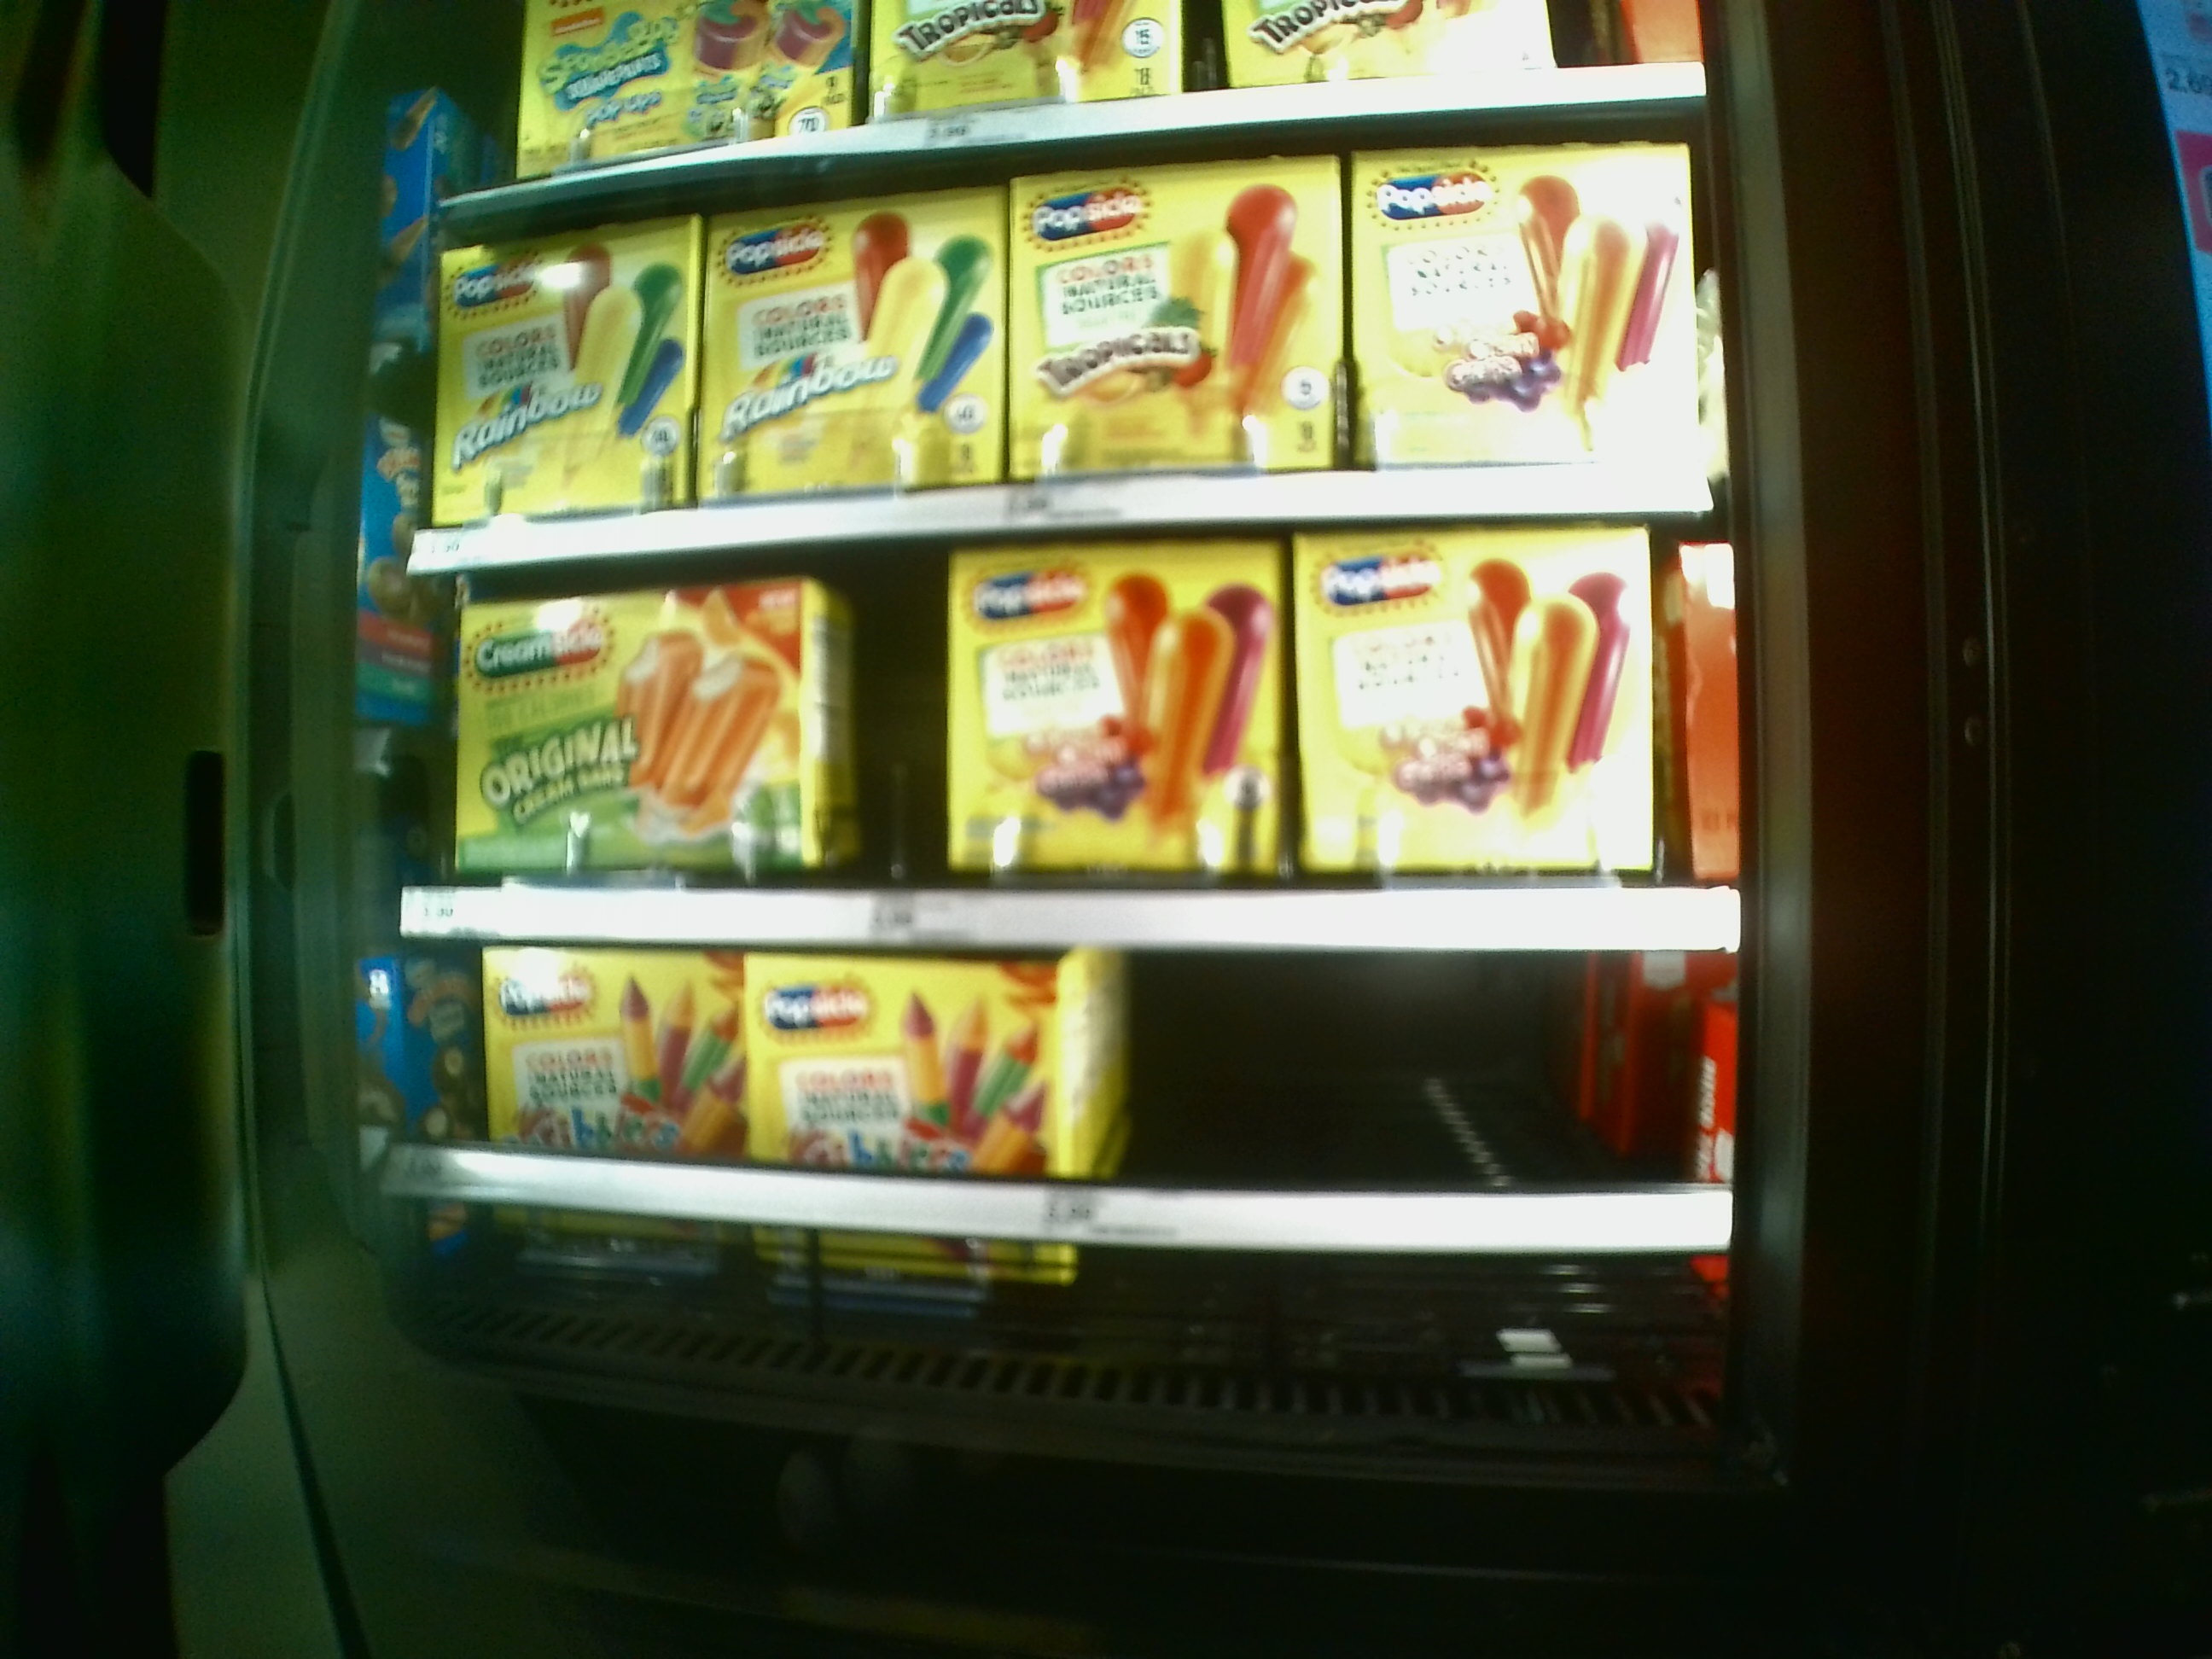shelf: (430, 538, 1731, 964), (425, 958, 1728, 1370), (430, 136, 1723, 545)
